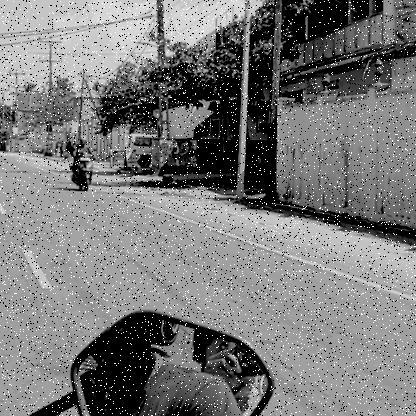motorcycle: (68, 150, 99, 194)
